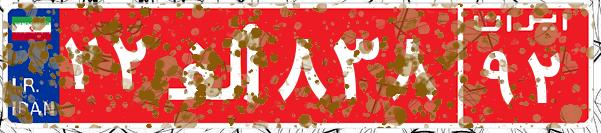2: (57, 26, 110, 107), (110, 28, 158, 105), (525, 38, 570, 115)
3: (330, 28, 385, 110)
8: (385, 28, 445, 110), (273, 28, 330, 110)
9: (475, 38, 525, 113)
الف: (158, 15, 273, 115)
